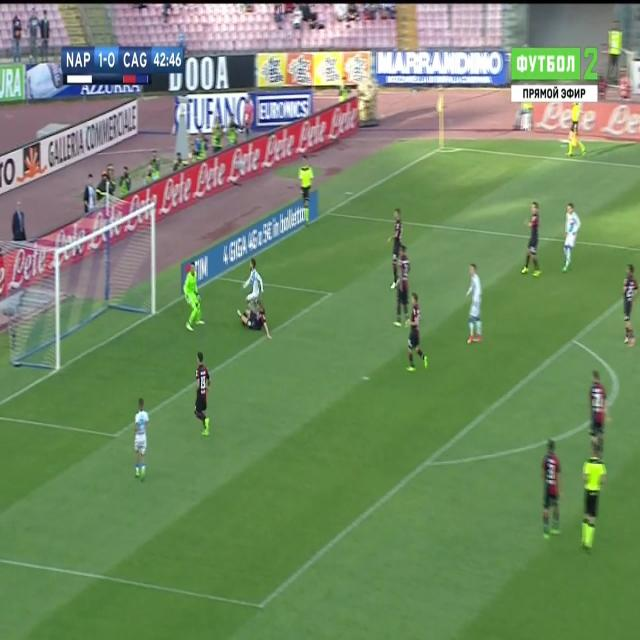Goalkeeper: (184, 259, 205, 337)
Player: (538, 438, 564, 544), (588, 370, 614, 462), (404, 290, 429, 375), (132, 394, 152, 487), (520, 196, 542, 280), (192, 352, 212, 441), (560, 200, 582, 276), (621, 262, 640, 350), (466, 260, 484, 348), (394, 243, 411, 333), (389, 207, 404, 291), (238, 302, 272, 338), (244, 254, 266, 302)
Referee: (579, 442, 609, 552), (566, 101, 588, 162), (298, 153, 315, 230)
